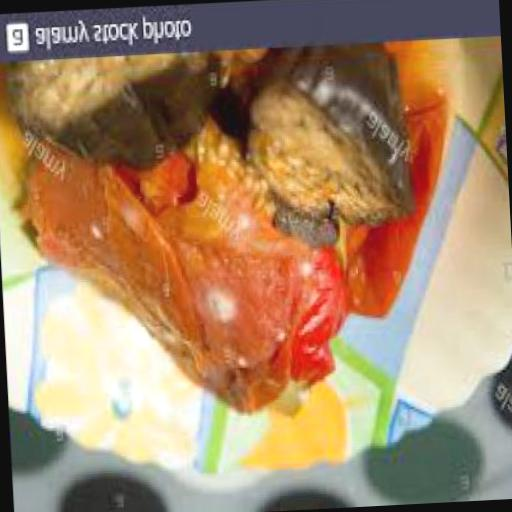biodegradable: (14, 108, 350, 434), (323, 44, 455, 322), (0, 49, 269, 181), (238, 43, 406, 233)
